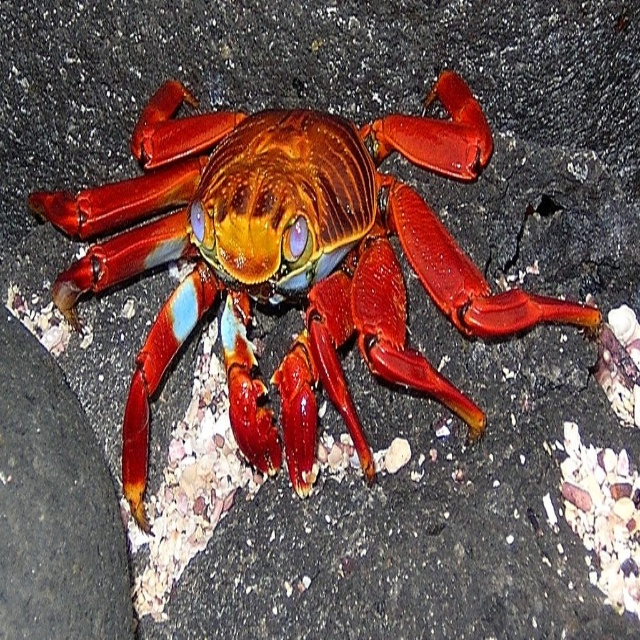Crab: (26, 70, 601, 540)
